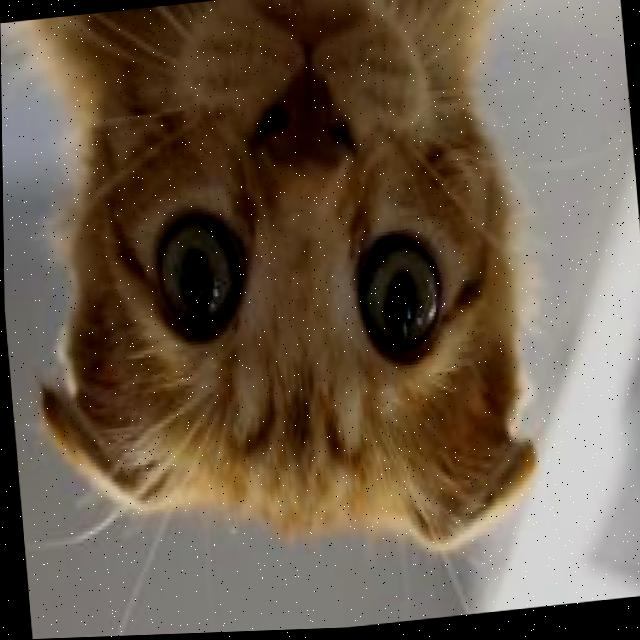Scottish Fold: (0, 0, 579, 607)
